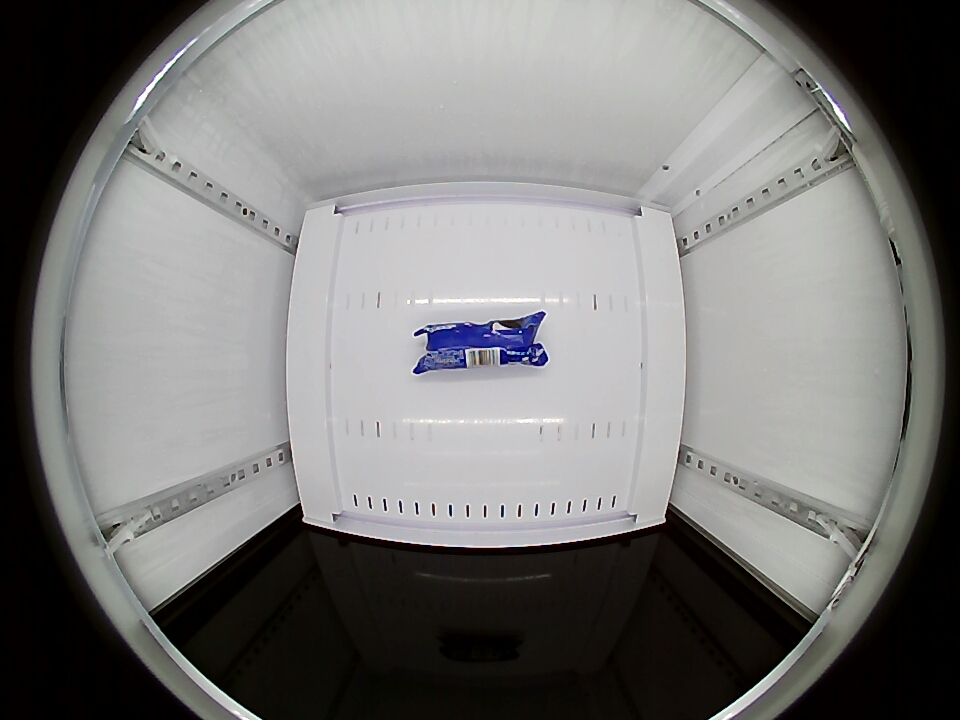aoliao: (419, 315, 546, 370)
